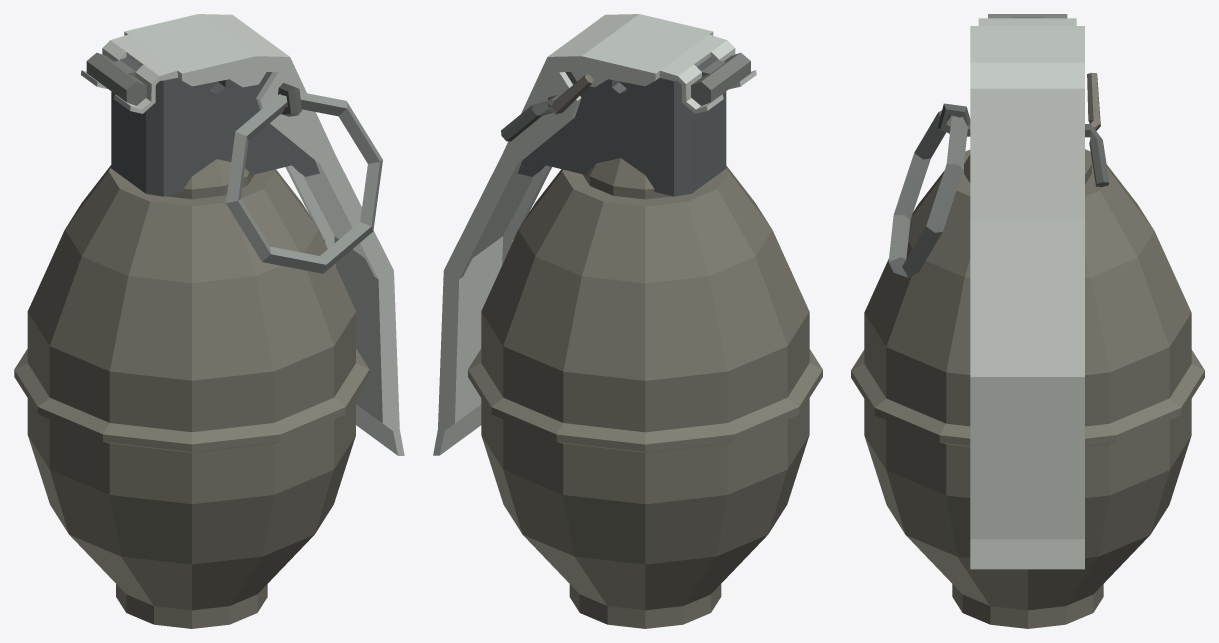
Rendered from SM_Bomb_015.fbx.
3 views of the same model, side by side, from view 1: azimuth 30°, elevation 25°; view 2: azimuth 150°, elevation 25°; view 3: azimuth 270°, elevation 25° (orthographic).
Visible parts, largest first — view 1: SM_Bomb_015; view 2: SM_Bomb_015; view 3: SM_Bomb_015.
Part boxes in pixels (box(x1,y1,x2,y2)): SM_Bomb_015: box(14, 14, 404, 628); SM_Bomb_015: box(433, 14, 822, 628); SM_Bomb_015: box(851, 14, 1204, 628).
Bounding box in the file's own units: 3.18 × 4.99 × 2.9.
1 material, 1 textured.
